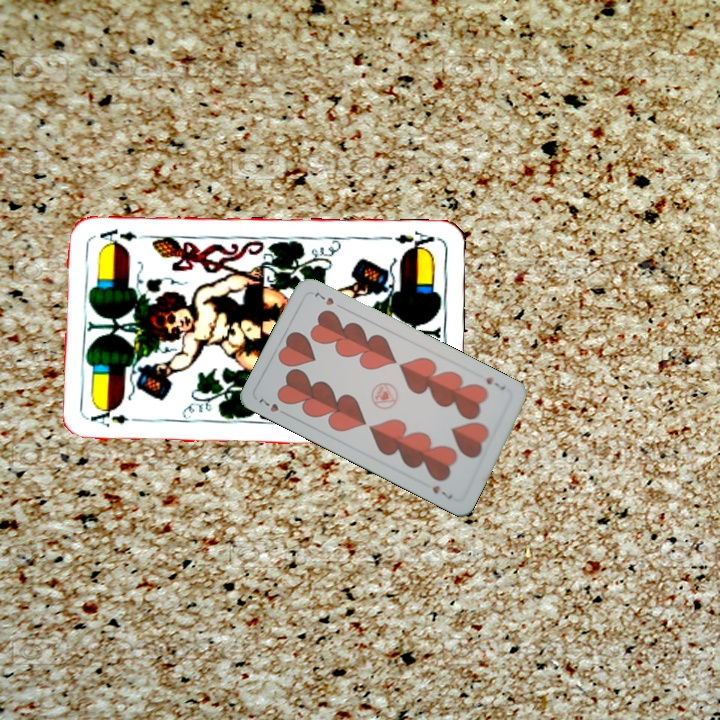EA: (380, 226, 437, 254), (87, 409, 146, 430)
H7: (254, 394, 291, 417), (482, 373, 508, 393)
